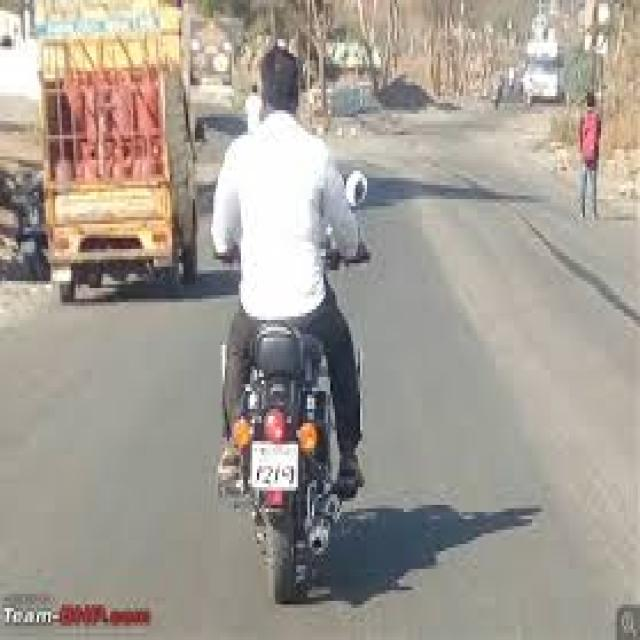Numberplate: (253, 436, 302, 491)
bike: (176, 204, 398, 619)
no_helmet: (262, 37, 310, 116)
